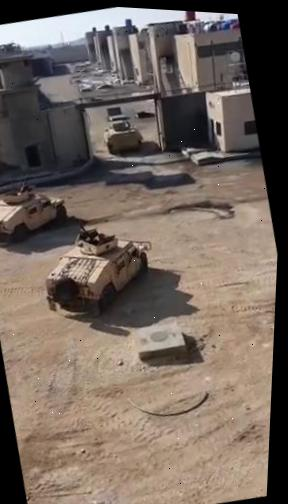armored_car: (32, 212, 165, 327), (0, 176, 74, 254)
tank: (99, 115, 147, 158)
